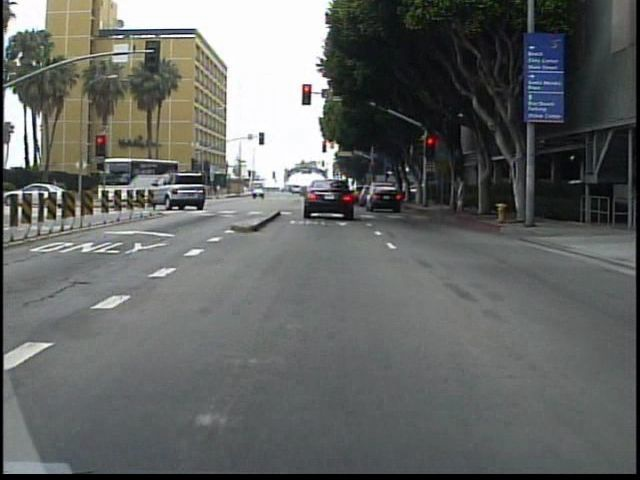person: (454, 169, 472, 216)
